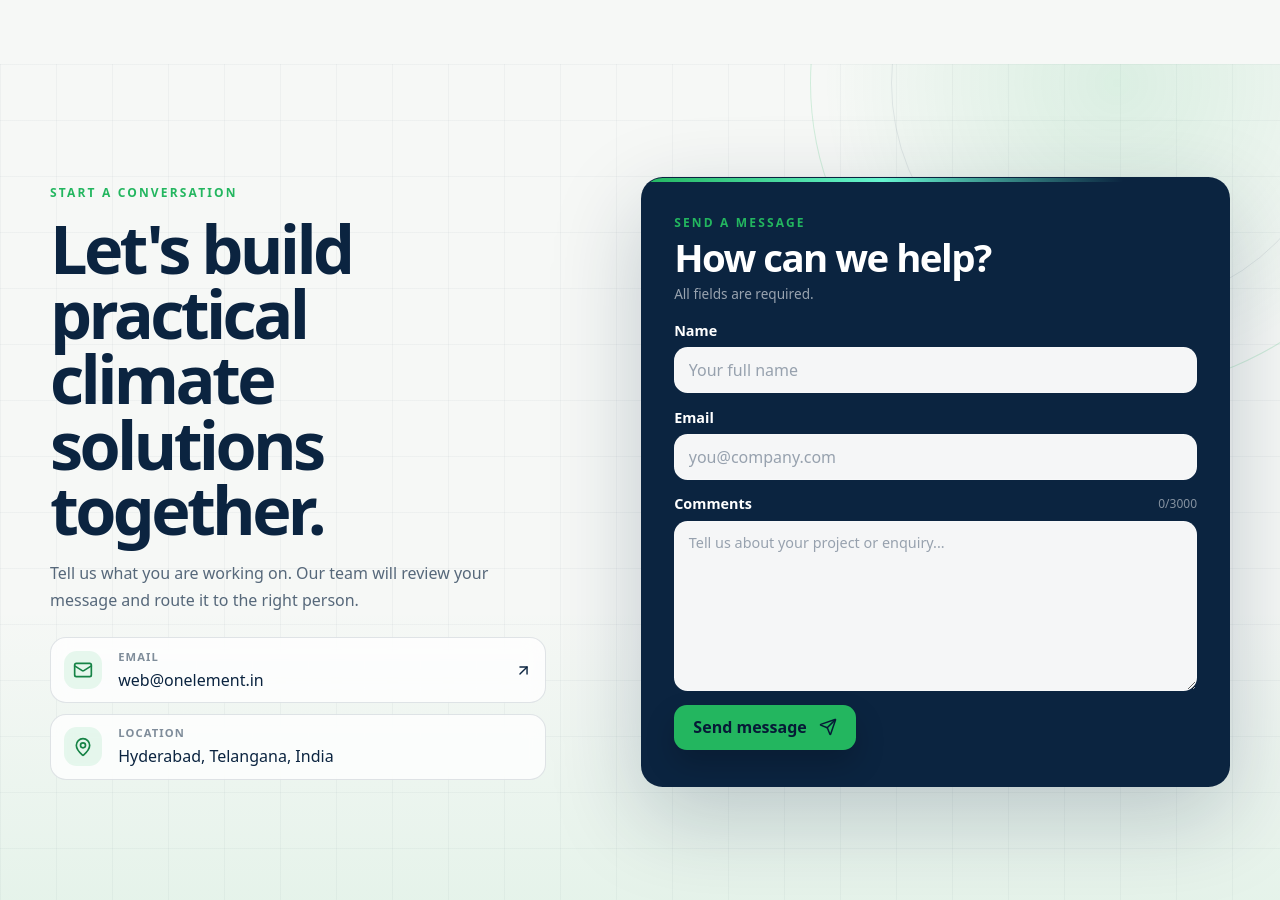
Contact › submits the accessible contact form
Step 1. Type "Ananya Rao" into the field labelled "Name" → (936, 370), box [674,347,1197,393]
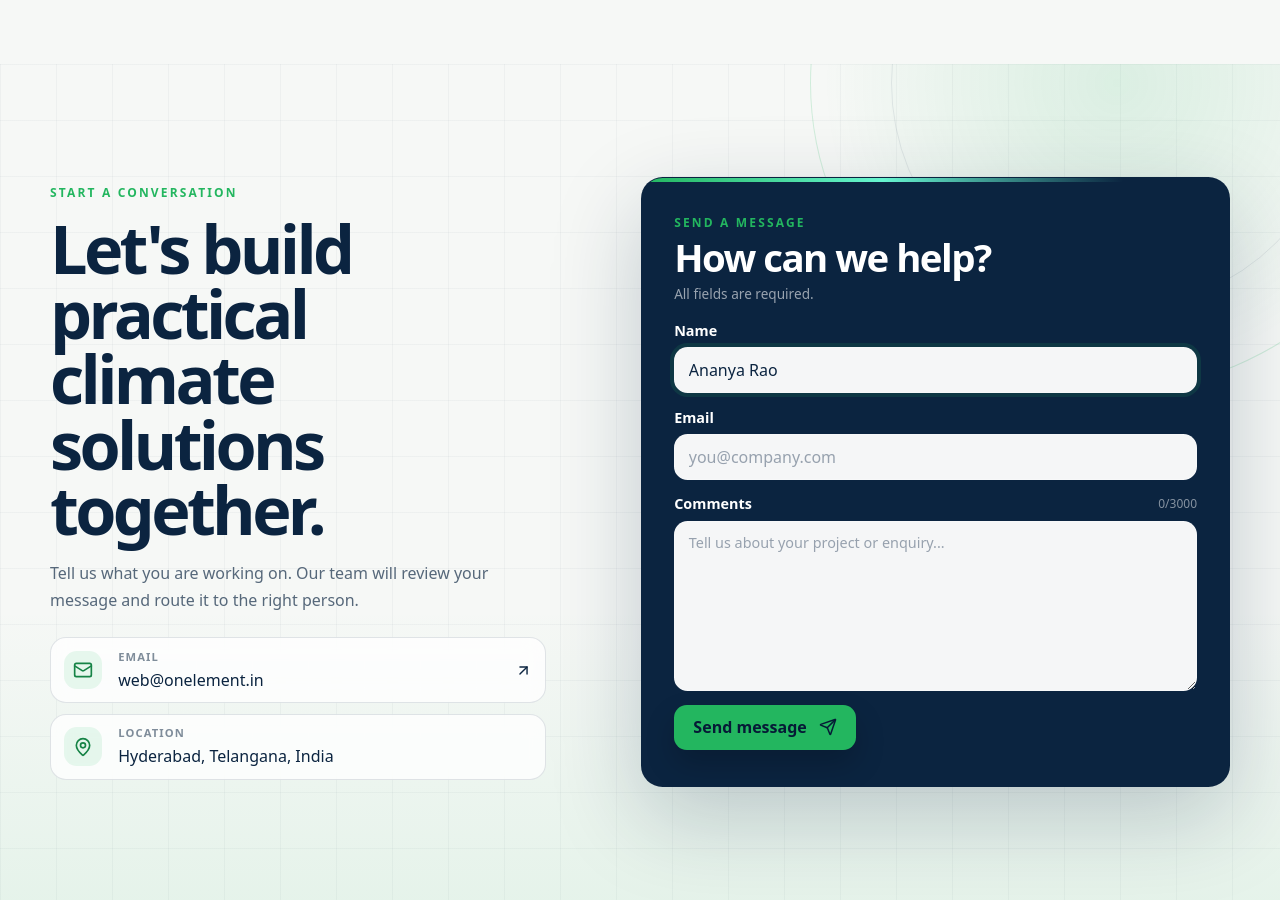
Step 2. Type "ananya@example.com" into the field labelled "Email" → (936, 457), box [674,434,1197,480]
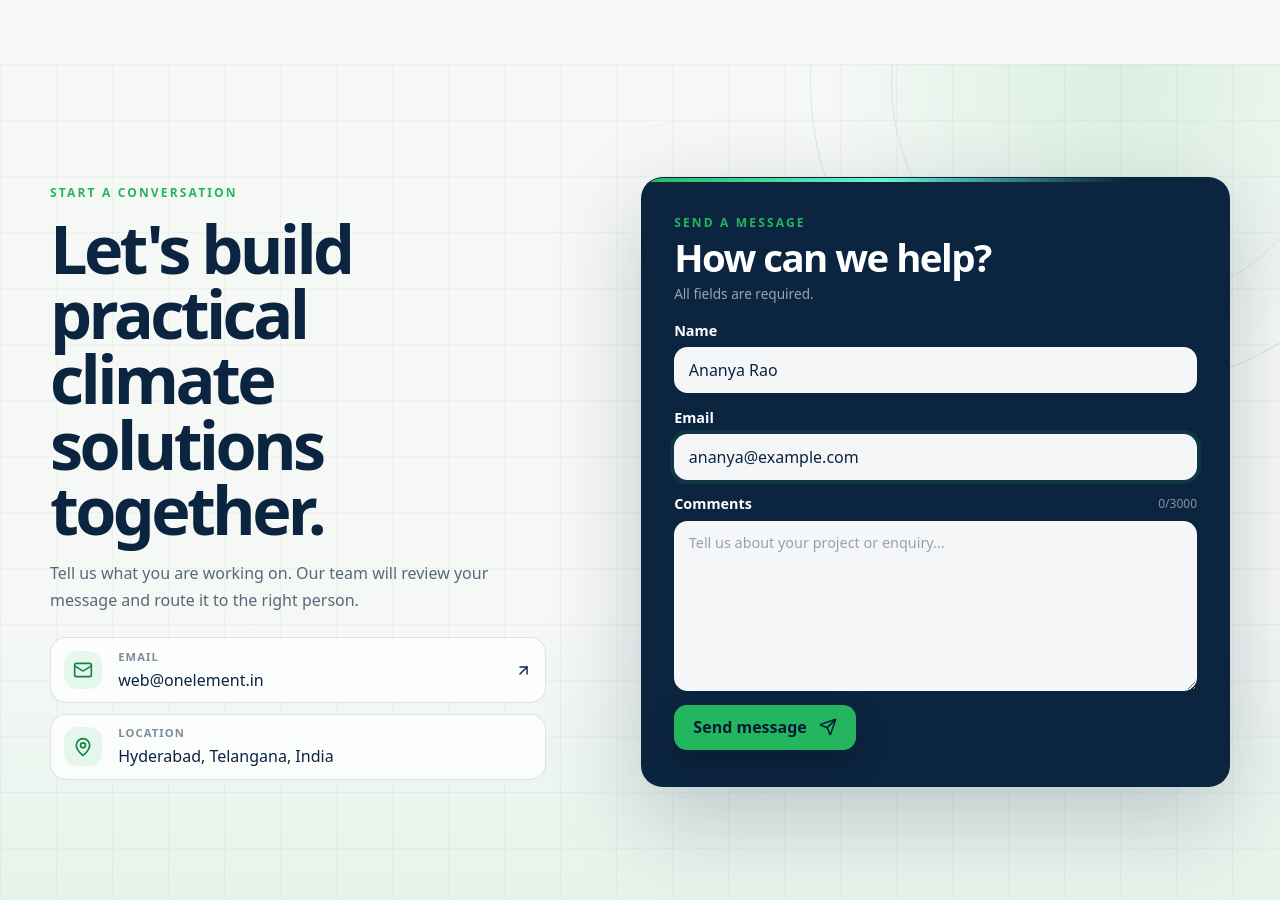
Step 3. Type "We would like to discuss a clean-energy project." into the text box labelled "Comments" → (936, 606), box [674,520,1197,691]
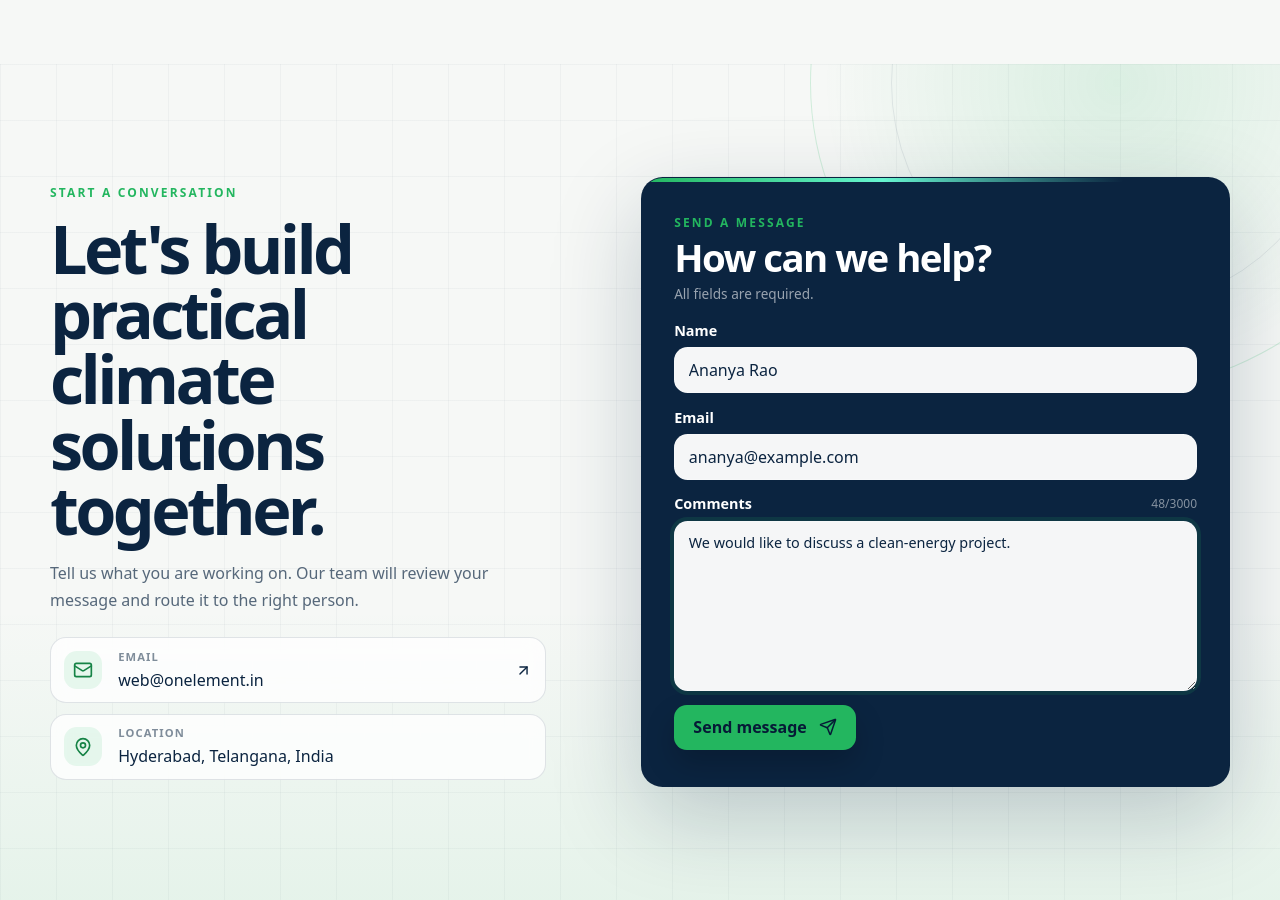
Step 4. Click the button "Send message" → (765, 727), box [674,704,856,750]
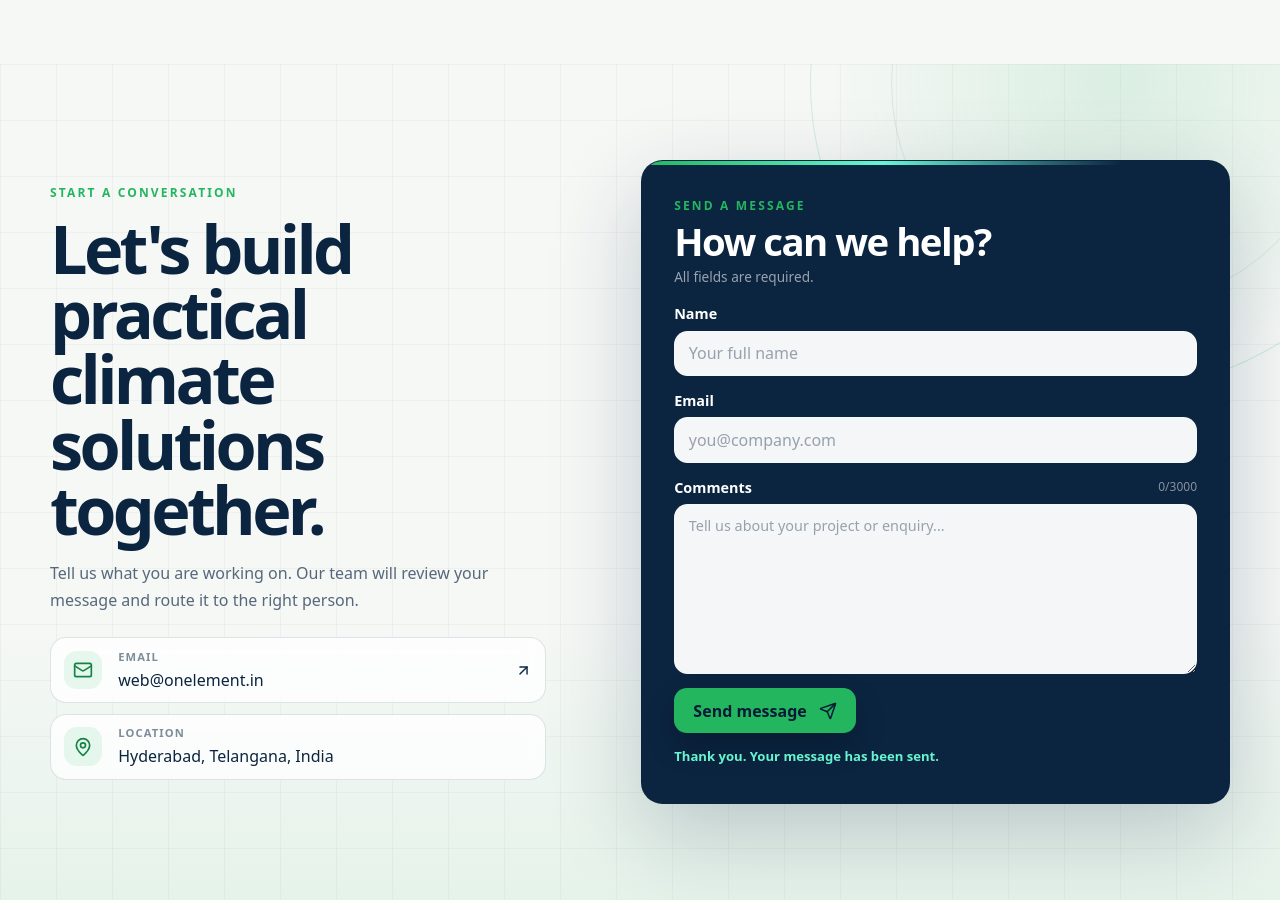
expect the message reads "Thank you. Your message has been sent.": met, box [674,747,939,765]
